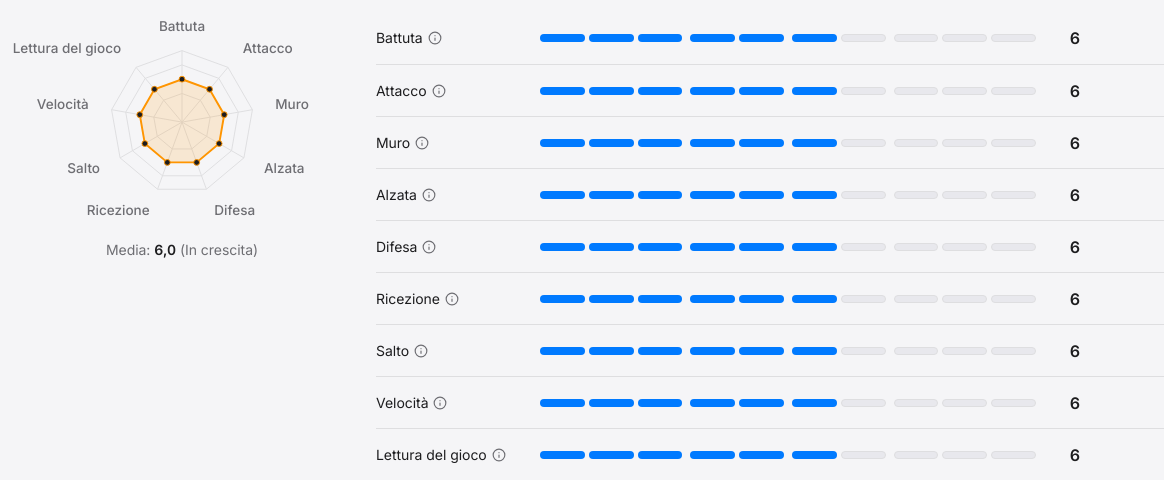
Test: guide fallback and decimals in Italian › shows the Italian default guide in the skill tooltips when no guide is saved
Focus the button named "Guida al punteggio: Battuta". click: (435, 38)
box: top-left (427, 30), bottom-right (443, 46)
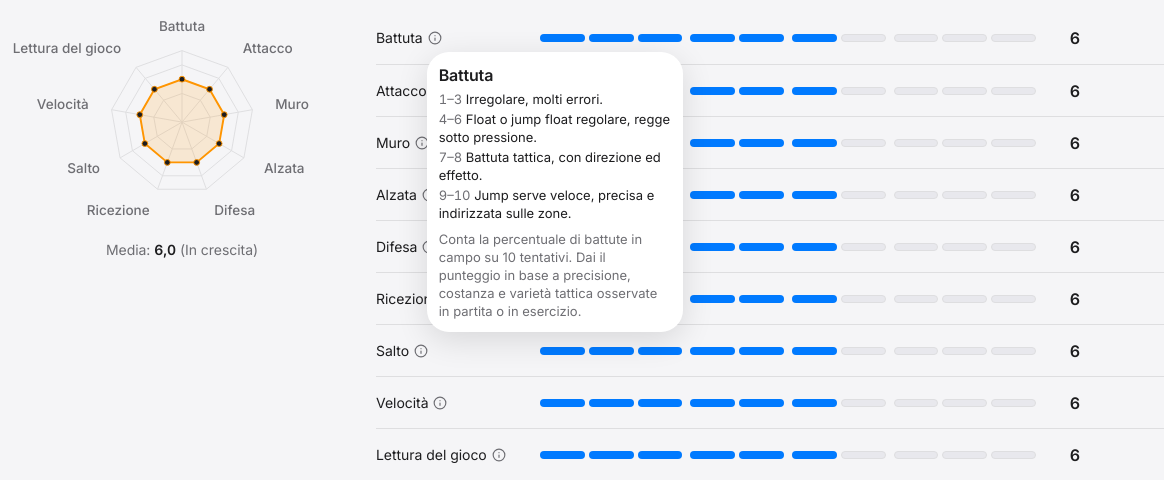
Check: the tooltip shows "Irregolare, molti errori.", box top-left (466, 91), bottom-right (603, 107)
